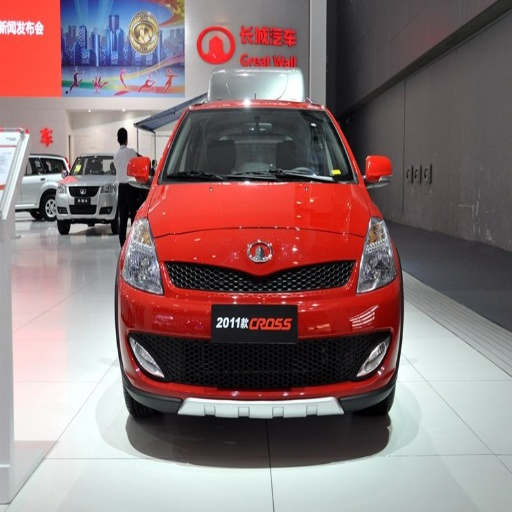front_bumper: (121, 230, 400, 422)
front_right_light: (123, 217, 161, 292)
hood: (147, 183, 372, 268)
